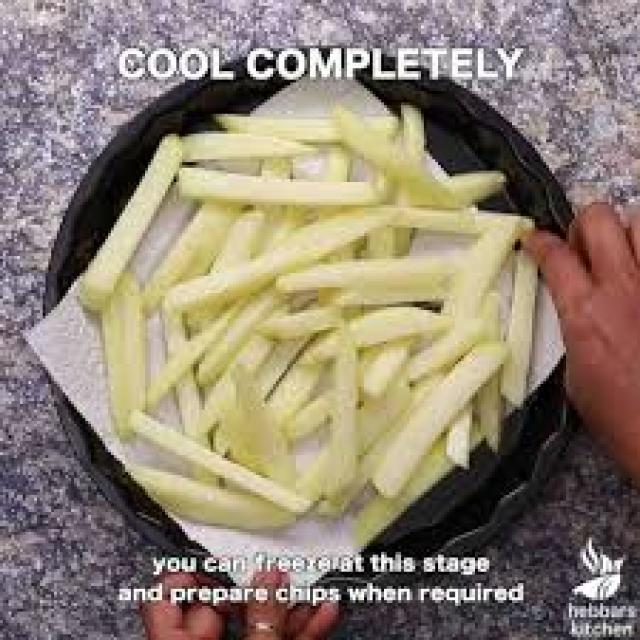감자튀김: (73, 83, 545, 547)
